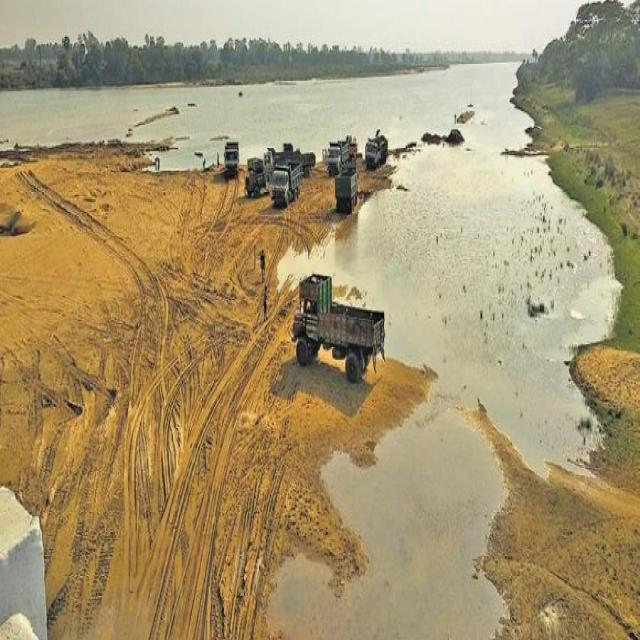uncovered: (296, 268, 384, 368), (335, 162, 360, 223), (272, 163, 304, 204), (365, 134, 390, 172), (219, 138, 242, 172)
